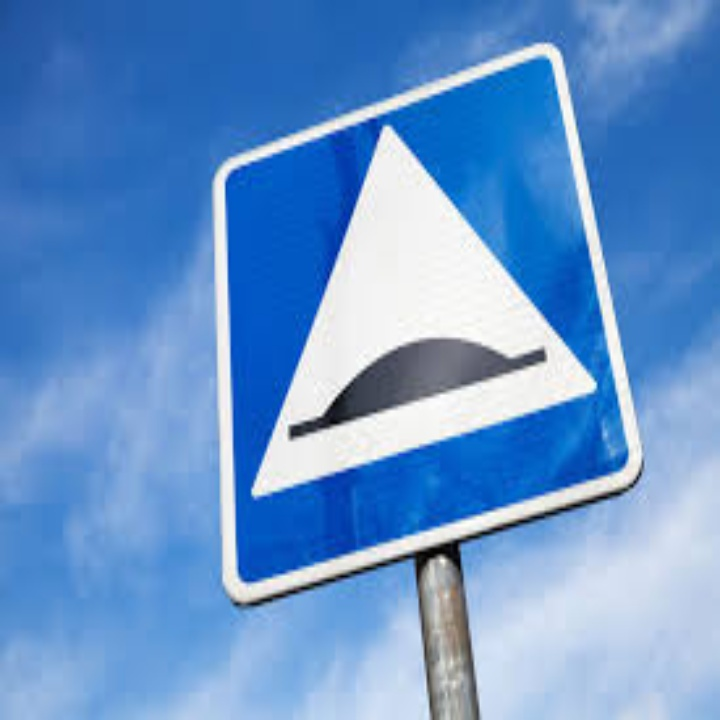bump: (221, 123, 599, 500)
